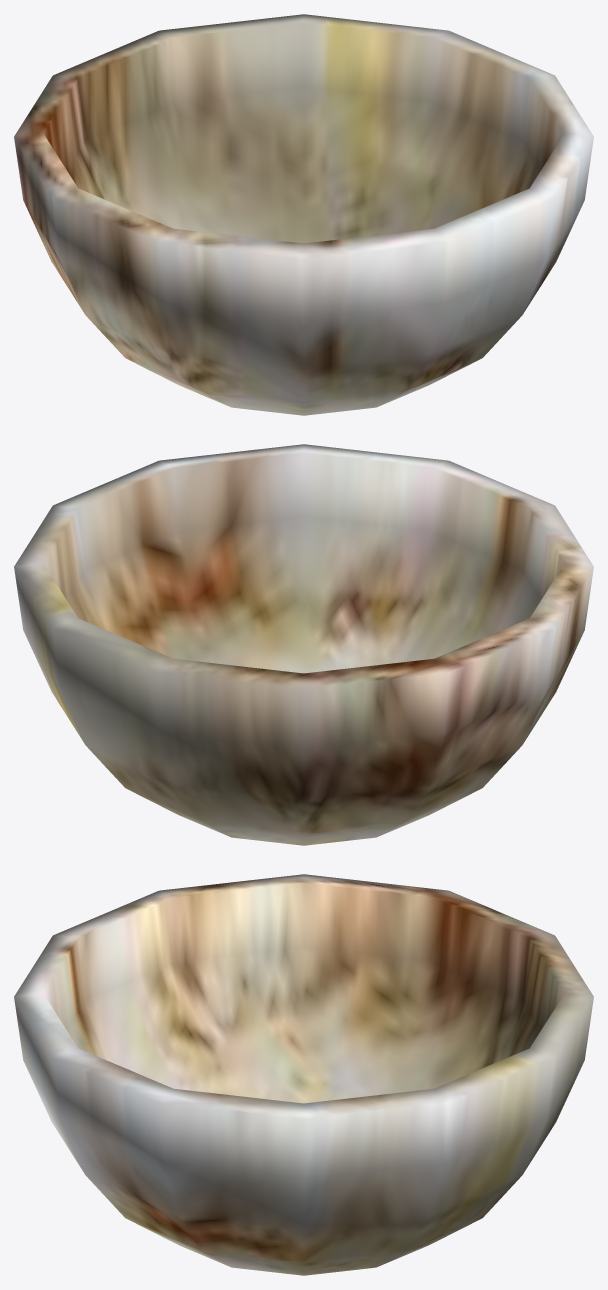
Rendered from bowl_1.FBX.
3 renders of one model, top to bottom at view 1: azimuth 30°, elevation 25°; view 2: azimuth 150°, elevation 25°; view 3: azimuth 270°, elevation 25°, orthographic.
Parts seen in each view (by area): view 1: bowl_2; view 2: bowl_2; view 3: bowl_2.
Part boxes in pixels (box(x1,y1,x2,y2)): bowl_2: box(14, 14, 593, 415); bowl_2: box(14, 444, 593, 845); bowl_2: box(14, 874, 593, 1275).
Bounding box in the file's own units: 7.72 × 3.49 × 7.72.
